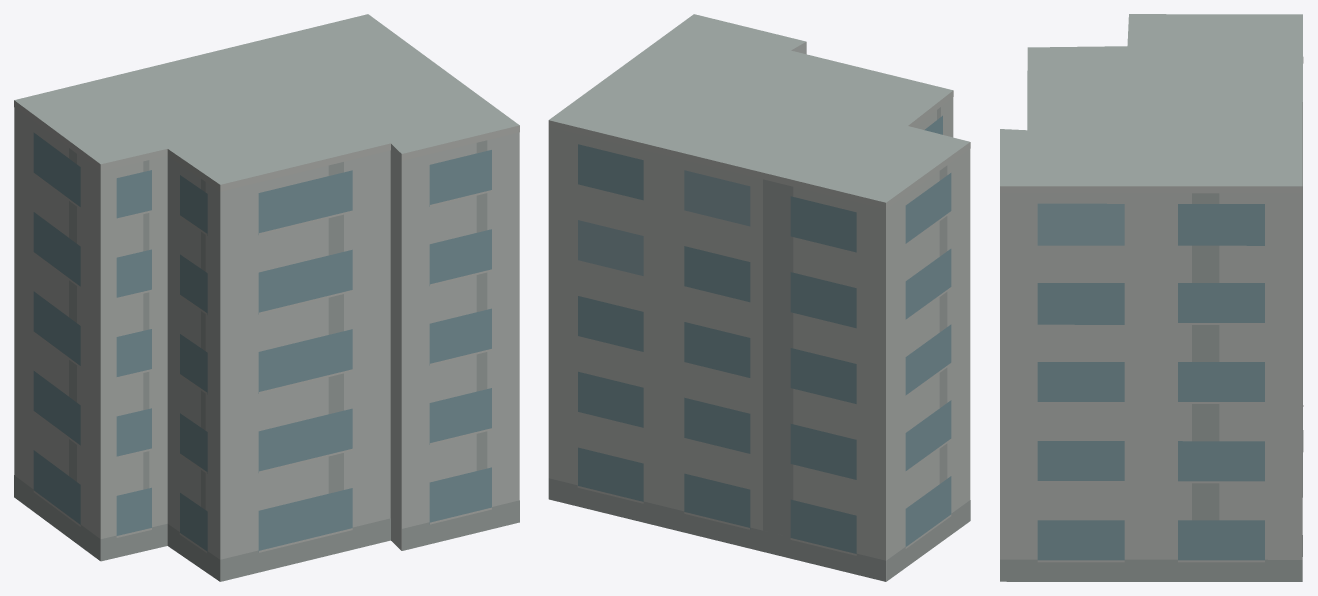
Rendered from survey-upis-32891726.glb.
3 renders of one model, left to right at view 1: azimuth 30°, elevation 25°; view 2: azimuth 150°, elevation 25°; view 3: azimuth 270°, elevation 25°, orthographic. The views are drawn at different scales.
Visible parts, largest first — view 1: survey-upis-32891726.tmp; view 2: survey-upis-32891726.tmp; view 3: survey-upis-32891726.tmp.
Boxes of the visible parts, left/top/right/bottom form: survey-upis-32891726.tmp: left=14, top=14, right=519, bottom=581; survey-upis-32891726.tmp: left=548, top=14, right=970, bottom=581; survey-upis-32891726.tmp: left=1000, top=14, right=1303, bottom=581.
Size of the model in its own units: 12.96 by 13.85 by 9.65.
